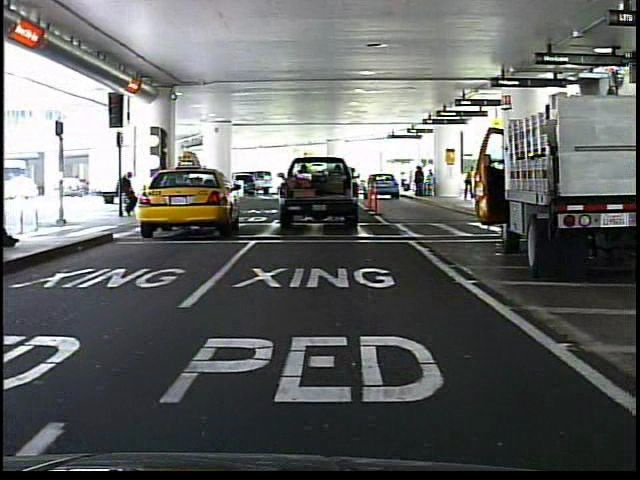person: (119, 168, 139, 220)
